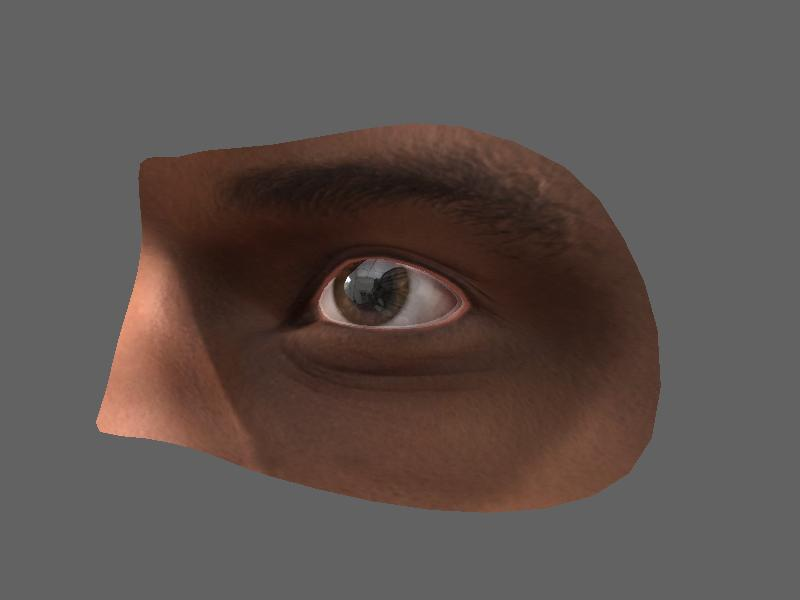iris: (329, 255, 414, 326)
